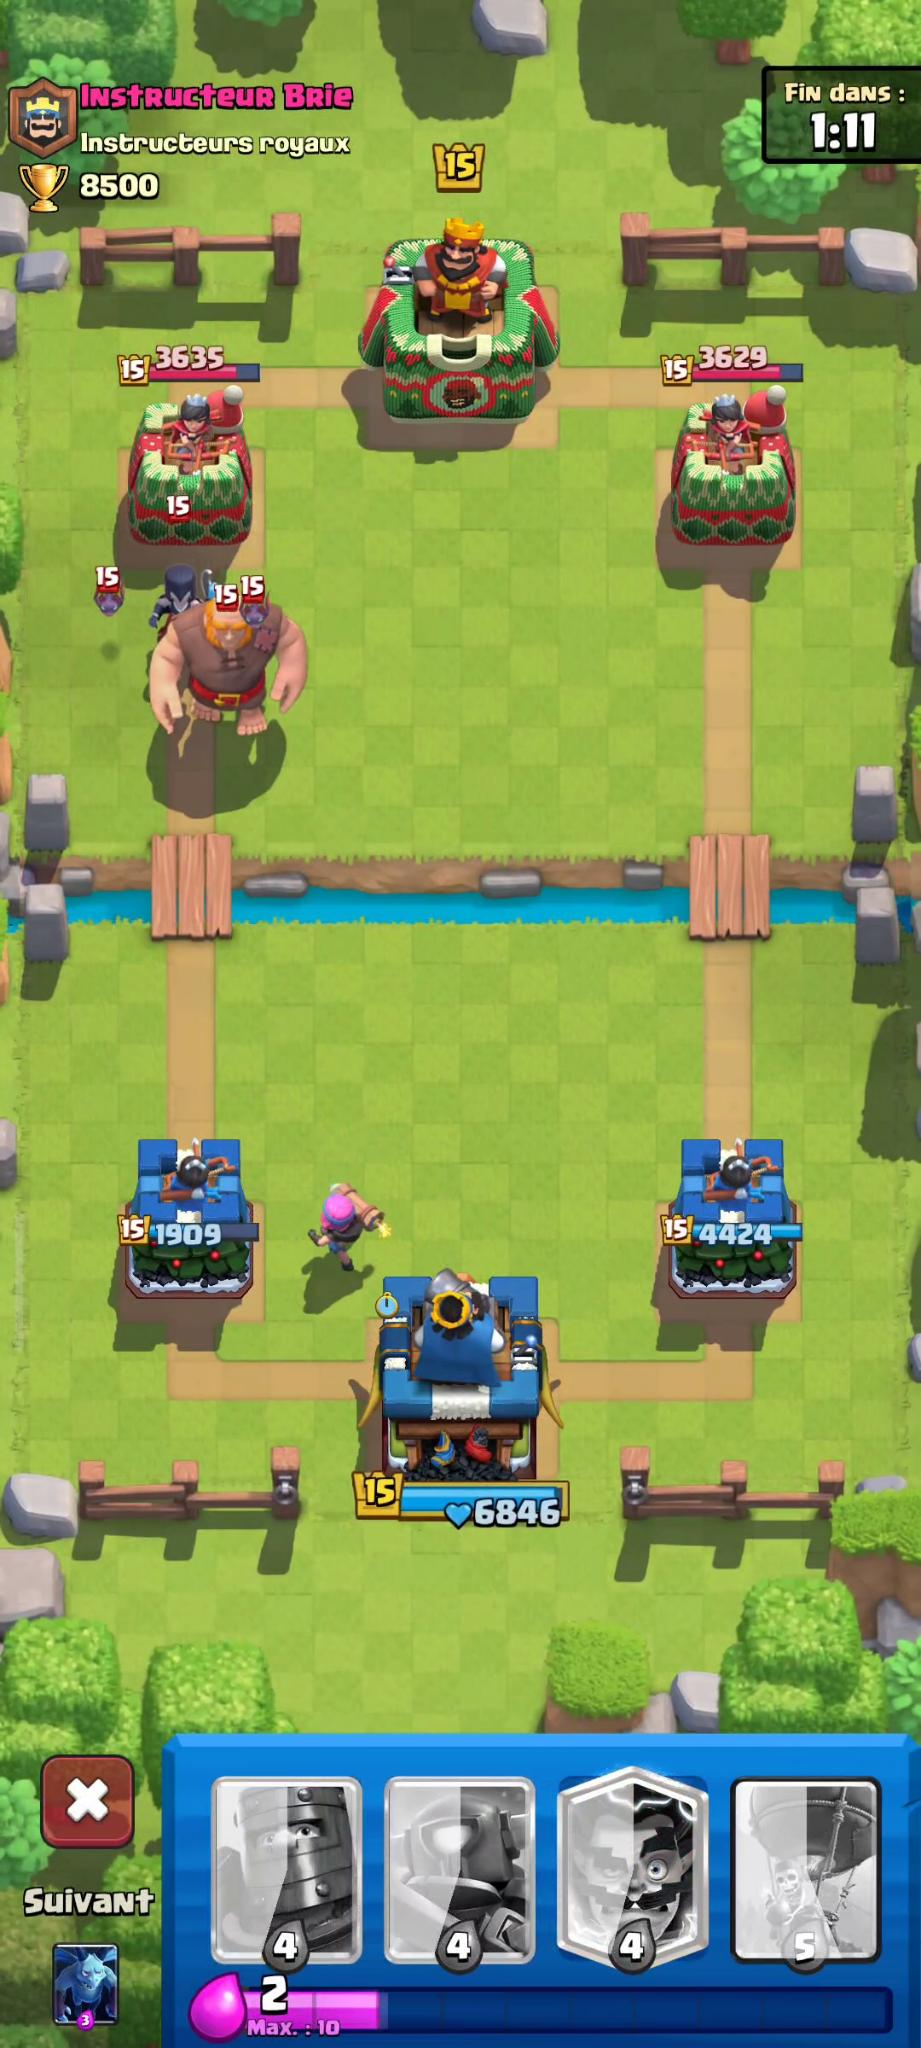bat: (85, 564, 141, 618), (235, 581, 277, 630)
geant: (150, 583, 312, 754)
